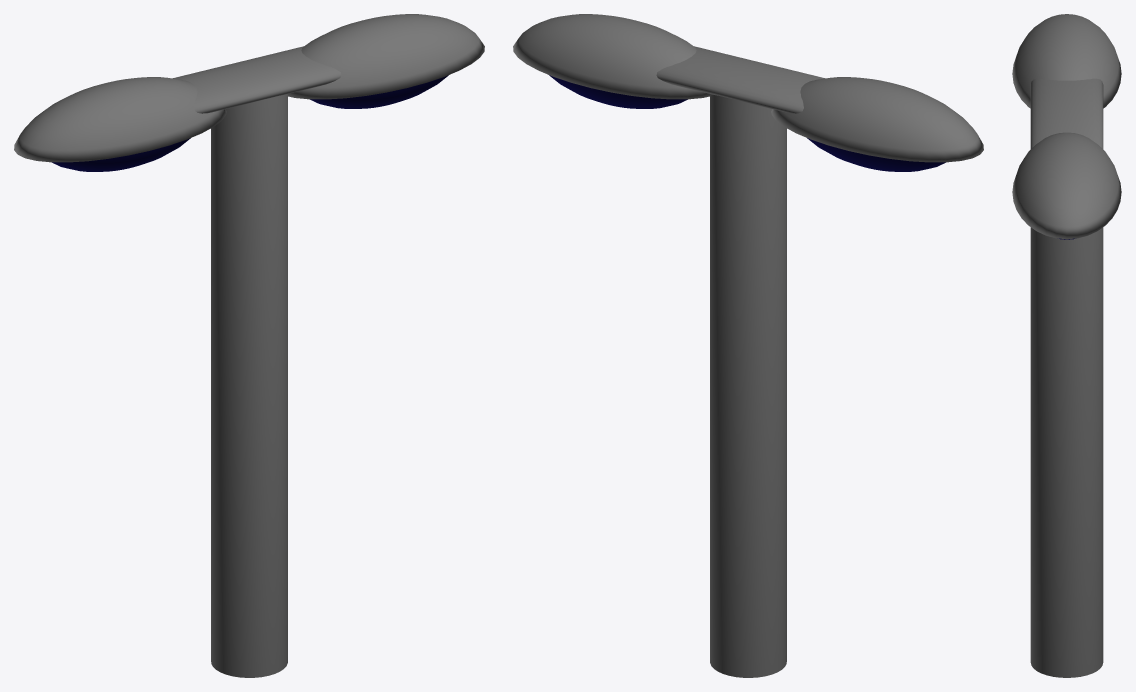
Rendered from Parking Lot Lamp Pole.fbx.
3 renders of one model, left to right at view 1: azimuth 30°, elevation 25°; view 2: azimuth 150°, elevation 25°; view 3: azimuth 270°, elevation 25°, orthographic. The views are drawn at different scales.
Visible parts, largest first — view 1: Cylinder, Sphere.001, Sphere.002, Cylinder.001, Sphere, Sphere.003; view 2: Cylinder, Sphere.001, Sphere.002, Cylinder.001, Sphere, Sphere.003; view 3: Cylinder, Sphere.002, Sphere.001, Cylinder.001.
Boxes of the visible parts, box(x1,y1,x2,y2) form: Cylinder: box(211, 94, 287, 677); Sphere.001: box(14, 77, 226, 162); Sphere.002: box(288, 14, 484, 99); Cylinder.001: box(173, 46, 341, 113); Sphere: box(52, 138, 190, 171); Sphere.003: box(310, 75, 448, 108); Cylinder: box(710, 94, 786, 677); Sphere.001: box(771, 77, 983, 162); Sphere.002: box(513, 14, 709, 99); Cylinder.001: box(656, 46, 824, 113); Sphere: box(807, 138, 945, 171); Sphere.003: box(549, 75, 687, 108); Cylinder: box(1030, 227, 1103, 677); Sphere.002: box(1012, 132, 1121, 239); Sphere.001: box(1012, 14, 1121, 108); Cylinder.001: box(1030, 78, 1103, 148).
Size of the model in its own units: 903 by 1130 by 196.
